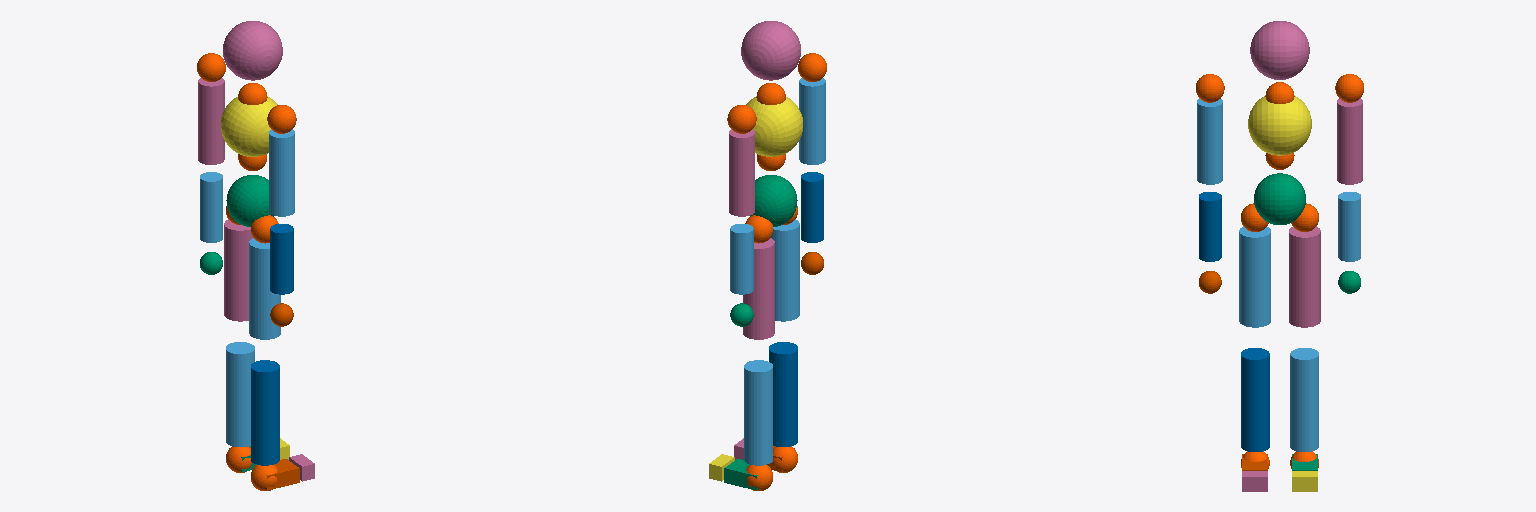
--- Render facts (derived) ---
3 views of the same robot in one strip: view 1: azimuth 30°, elevation 25°; view 2: azimuth 150°, elevation 25°; view 3: azimuth 270°, elevation 25° (orthographic).
Model W0008 with 35 links and 34 joints (28 revolute, 6 fixed), rooted at base_link, posed every joint at zero.
Visible links, largest first — view 1: right_knee, neck, left_knee, left_hip, chest, right_hip, right_shoulder, left_shoulder, root, right_elbow, left_elbow, chest_left_shoulder_link2 (+5 smaller); view 2: left_knee, neck, right_knee, right_hip, chest, left_hip, left_shoulder, right_shoulder, root, left_elbow, right_elbow, chest_right_shoulder_link2 (+5 smaller); view 3: right_hip, left_hip, right_knee, left_knee, chest, neck, right_shoulder, left_shoulder, root, right_elbow, left_elbow, chest_right_shoulder_link2 (+3 smaller).
Link boxes in pixels (x1=…): right_knee: x1=251, y1=360, x2=279, y2=465; neck: x1=223, y1=21, x2=282, y2=80; left_knee: x1=226, y1=342, x2=254, y2=446; left_hip: x1=224, y1=219, x2=252, y2=321; chest: x1=221, y1=96, x2=277, y2=156; right_hip: x1=249, y1=238, x2=280, y2=339; right_shoulder: x1=269, y1=129, x2=294, y2=216; left_shoulder: x1=198, y1=78, x2=224, y2=164; root: x1=226, y1=175, x2=273, y2=226; right_elbow: x1=270, y1=224, x2=293, y2=294; left_elbow: x1=200, y1=172, x2=222, y2=242; chest_left_shoulder_link2: x1=197, y1=53, x2=225, y2=81; left_knee: x1=744, y1=360, x2=772, y2=465; neck: x1=741, y1=21, x2=800, y2=80; right_knee: x1=769, y1=342, x2=797, y2=446; right_hip: x1=771, y1=219, x2=799, y2=321; chest: x1=746, y1=96, x2=802, y2=156; left_hip: x1=743, y1=238, x2=774, y2=339; left_shoulder: x1=729, y1=129, x2=754, y2=216; right_shoulder: x1=799, y1=78, x2=825, y2=164; root: x1=750, y1=175, x2=797, y2=226; left_elbow: x1=730, y1=224, x2=753, y2=294; right_elbow: x1=801, y1=172, x2=823, y2=242; chest_right_shoulder_link2: x1=798, y1=53, x2=826, y2=81; right_hip: x1=1239, y1=226, x2=1270, y2=327; left_hip: x1=1289, y1=226, x2=1320, y2=327; right_knee: x1=1241, y1=348, x2=1269, y2=451; left_knee: x1=1290, y1=348, x2=1318, y2=451; chest: x1=1248, y1=95, x2=1311, y2=155; neck: x1=1250, y1=21, x2=1309, y2=79; right_shoulder: x1=1197, y1=98, x2=1222, y2=184; left_shoulder: x1=1337, y1=98, x2=1362, y2=184; root: x1=1254, y1=173, x2=1305, y2=224; right_elbow: x1=1199, y1=192, x2=1221, y2=261; left_elbow: x1=1338, y1=192, x2=1360, y2=261; chest_right_shoulder_link2: x1=1196, y1=74, x2=1224, y2=102.
Size in the robot's own frame: 0.28 by 0.58 by 1.72 metres.
Geometry: primitives only (box / cylinder / sphere), no mesh files.

URDF robot description (W0008):
<?xml version="1.0" ?>
            <robot name="W0008">
            <material name="orange">
                <color rgba="1.0 0.4235294117647059 0.0392156862745098 1.0"/>
            </material>
            <link name="base_link">
                </link>
            <link name="base">
                </link>
            <joint name="j_base_base_link_rotation" type="fixed">
                <parent link="base_link"/>
                <child link="base"/>
                <origin rpy="1.5707963267948966 0 0" xyz="0 0 0"/>
            </joint>
            <link name="root">
                <inertial>
                <origin rpy="0 0 0" xyz="0.0 0.07 0.0"/>
                <mass value="6.000000"/>
                <inertia ixx="0.019440000000000002" ixy="0" ixz="0" iyy="0.019440000000000002" iyz="0" izz="0.019440000000000002"/>
                </inertial>
                <collision>
                <origin rpy="0 0 0" xyz="0.000000 0.070000 0.000000"/>
                <geometry>
                    <sphere radius="0.09"/>
                </geometry>
                </collision>
                <visual>
                <origin rpy="0 0 0" xyz="0.000000 0.070000 0.000000"/>
                <geometry>
                    <sphere radius="0.09"/>
                </geometry>
                </visual>
            </link>
            <joint name="j_root" type="fixed">
                <parent link="base"/>
                <child link="root"/>
                <origin rpy="0 0 0" xyz="0 0.000000 0.000000"/>
            </joint>
            <link name="chest">
                <inertial>
                <origin rpy="0 0 0" xyz="0.000000 0.120000 0.000000"/>
                <mass value="14.000000"/>
                <inertia ixx="0.06776000000000001" ixy="0" ixz="0" iyy="0.06776000000000001" iyz="0" izz="0.06776000000000001"/>
                </inertial>
                <collision>
                <origin rpy="0 0 0" xyz="0.000000 0.120000 0.000000"/>
                <geometry>
                    <sphere radius="0.11"/>
                </geometry>
                </collision>
                <visual>
                <origin rpy="0 0 0" xyz="0.000000 0.120000 0.000000"/>
                <geometry>
                    <sphere radius="0.11"/>
                </geometry>
                </visual>
            </link>
            <link name="root_chest_link1">
                <inertial>
                <mass value="1e-02"/>
                <inertia ixx="1e-02" ixy="0" ixz="0" iyy="1e-02" iyz="0" izz="1e-02"/>
                </inertial>
            </link>
            <joint name="j_root_chest_joint1" type="revolute">
                <origin rpy="0 0 0" xyz="0.0 0.236151 0.000000"/>
                <parent link="root"/>
                <child link="root_chest_link1"/>
                <axis xyz="1 0 0"/>
                <limit effort="200" lower="-1.2" upper="1.2" velocity="3"/>
            </joint>
            <link name="root_chest_link2">
                <inertial>
                <mass value="1e-02"/>
                <inertia ixx="1e-02" ixy="0" ixz="0" iyy="1e-02" iyz="0" izz="1e-02"/>
                </inertial>
                <visual>
                <geometry>
                    <sphere radius="0.05"/>
                </geometry>
                <material name="orange"/>
                </visual>
            </link>
            <joint name="j_root_chest_joint2" type="revolute">
                <parent link="root_chest_link1"/>
                <child link="root_chest_link2"/>
                <axis xyz="0 1 0"/>
                <limit effort="200" lower="-1.2" upper="1.2" velocity="3"/>
            </joint>
            <joint name="j_root_chest_joint3" type="revolute">
                <parent link="root_chest_link2"/>
                <child link="chest"/>
                <axis xyz="0 0 1"/>
                <limit effort="200" lower="-1.2" upper="1.2" velocity="3"/>
            </joint>
            <link name="neck">
                <inertial>
                <origin rpy="0 0 0" xyz="0.0 0.175 0.0"/>
                <mass value="2.000000"/>
                <inertia ixx="0.008405" ixy="0" ixz="0" iyy="0.008405" iyz="0" izz="0.008405"/>
                </inertial>
                <collision>
                <origin rpy="0 0 0" xyz="0.0 0.175 0.0"/>
                <geometry>
                    <sphere radius="0.1025"/>
                </geometry>
                </collision>
                <visual>
                <origin rpy="0 0 0" xyz="0.0 0.175 0.0"/>
                <geometry>
                    <sphere radius="0.1025"/>
                </geometry>
                </visual>
            </link>
            <link name="chest_neck_link1">
                <inertial>
                <mass value="1e-02"/>
                <inertia ixx="1e-02" ixy="0" ixz="0" iyy="1e-02" iyz="0" izz="1e-02"/>
                </inertial>
            </link>
            <joint name="j_chest_neck_joint1" type="revolute">
                <origin rpy="0 0 0" xyz="0.000000 0.223894 0.000000"/>
                <parent link="chest"/>
                <child link="chest_neck_link1"/>
                <axis xyz="1 0 0"/>
                <limit effort="50" lower="-1" upper="1" velocity="3"/>
            </joint>
            <link name="chest_neck_link2">
                <inertial>
                <mass value="1e-02"/>
                <inertia ixx="1e-02" ixy="0" ixz="0" iyy="1e-02" iyz="0" izz="1e-02"/>
                </inertial>
                <visual>
                <geometry>
                    <sphere radius="0.05"/>
                </geometry>
                <material name="orange"/>
                </visual>
            </link>
            <joint name="j_chest_neck_joint2" type="revolute">
                <parent link="chest_neck_link1"/>
                <child link="chest_neck_link2"/>
                <axis xyz="0 1 0"/>
                <limit effort="50" lower="-1" upper="1" velocity="3"/>
            </joint>
            <joint name="j_chest_neck_joint3" type="revolute">
                <parent link="chest_neck_link2"/>
                <child link="neck"/>
                <axis xyz="0 0 1"/>
                <limit effort="50" lower="-1" upper="1" velocity="3"/>
            </joint>
            <link name="right_hip">
                <inertial>
                <origin rpy="0 0 0" xyz="0.000000 -0.210000 0.000000"/>
                <mass value="4.500000"/>
                <inertia ixx="0.037153124999999995" ixy="0.0" ixz="0.0" iyy="0.037153124999999995" iyz="0.0" izz="0.00680625"/>
                </inertial>
                <collision>
                <origin rpy="1.5707963267948966 0 0" xyz="0.000000 -0.210000 0.000000"/>
                <geometry>
                    <cylinder length="0.22499999999999998" radius="0.0275"/>
                </geometry>
                </collision>
                <visual>
                <origin rpy="1.5707963267948966 0 0" xyz="0.000000 -0.22049999999999997 0.000000"/>
                <geometry>
                    <cylinder length="0.34099999999999997" radius="0.055"/>
                </geometry>
                </visual>
            </link>
            <link name="root_right_hip_link1">
                <inertial>
                <mass value="1e-02"/>
                <inertia ixx="1e-02" ixy="0" ixz="0" iyy="1e-02" iyz="0" izz="1e-02"/>
                </inertial>
            </link>
            <joint name="j_root_right_hip_joint1" type="revolute">
                <origin rpy="0 0 0" xyz="0.000000 0.000000 0.084887"/>
                <parent link="root"/>
                <child link="root_right_hip_link1"/>
                <axis xyz="1 0 0"/>
                <limit effort="200" lower="-1.5" upper="1.5" velocity="3"/>
            </joint>
            <link name="root_right_hip_link2">
                <inertial>
                <mass value="1e-02"/>
                <inertia ixx="1e-02" ixy="0" ixz="0" iyy="1e-02" iyz="0" izz="1e-02"/>
                </inertial>
                <visual>
                <geometry>
                    <sphere radius="0.05"/>
                </geometry>
                <material name="orange"/>
                </visual>
            </link>
            <joint name="j_root_right_hip_joint2" type="revolute">
                <parent link="root_right_hip_link1"/>
                <child link="root_right_hip_link2"/>
                <axis xyz="0 1 0"/>
                <limit effort="200" lower="-1.5" upper="1.5" velocity="3"/>
            </joint>
            <joint name="j_root_right_hip_joint3" type="revolute">
                <parent link="root_right_hip_link2"/>
                <child link="right_hip"/>
                <axis xyz="0 0 1"/>
                <limit effort="200" lower="-1.5" upper="1.5" velocity="3"/>
            </joint>
            <link name="right_knee">
                <inertial>
                <origin rpy="0 0 0" xyz="0.000000 -0.200000 0.000000"/>
                <mass value="3.000000"/>
                <inertia ixx="0.1" ixy="0" ixz="0" iyy="0.1" iyz="0" izz="0.1"/>
                </inertial>
                <collision>
                <origin rpy="1.5707963267948966 0 0" xyz="0.000000 -0.200000 0.000000"/>
                <geometry>
                    <cylinder length="0.23249999999999998" radius="0.025"/>
                </geometry>
                </collision>
                <visual>
                <origin rpy="1.5707963267948966 0 0" xyz="0.000000 -0.2 0.000000"/>
                <geometry>
                    <cylinder length="0.35000000000000003" radius="0.05"/>
                </geometry>
                </visual>
            </link>
            <joint name="j_right_knee" type="revolute">
                <parent link="right_hip"/>
                <child link="right_knee"/>
                <limit effort="150.0" lower="-3.14" upper="0." velocity="0.5"/>
                <origin rpy="0 0 0" xyz="0.000000 -0.49100000000000005 0.000000"/>
                <axis xyz="0.000000 0.000000 1.000000"/>
            </joint>
            <link name="right_ankle">
                <inertial>
                <origin rpy="0 0 0" xyz="0.045 -0.00225 0.000000"/>
                <mass value="1.000000"/>
                <inertia ixx="0.0009270833333333333" ixy="0.0" ixz="0.0" iyy="0.0028628333333333327" iyz="0.0" izz="0.003285749999999999"/>
                </inertial>
                <collision>
                <origin rpy="0 0 0" xyz="0.045 -0.00225 0.000000"/>
                <geometry>
                    <box size="0.127 0.055 0.09"/>
                </geometry>
                </collision>
                <visual>
                <origin rpy="0 0 0" xyz="0.045 -0.00225 0.000000"/>
                <geometry>
                    <box size="0.127 0.055 0.09"/>
                </geometry>
                </visual>
            </link>
            <joint name="j_right_toe" type="fixed">
                <parent link="right_ankle"/>
                <child link="right_toe"/>
                <limit effort="150.0" lower="-3.14" upper="0." velocity="0.5"/>
                <origin rpy="0 0 0" xyz="0.1 0.0 0.0"/>
                <axis xyz="0.000000 0.000000 1.000000"/>
            </joint>
            <link name="right_toe">
                <inertial>
                <origin rpy="0 0 0" xyz="0.045 0.0 0.0"/>
                <mass value="0.3"/>
                <inertia ixx="0.0009270833333333333" ixy="0.0" ixz="0.0" iyy="0.0028628333333333327" iyz="0.0" izz="0.003285749999999999"/>
                </inertial>
                <collision>
                <origin rpy="0 0 0" xyz="0.045 0.0 0.0"/>
                <geometry>
                    <box size="0.05 0.055 0.09"/>
                </geometry>
                </collision>
                <visual>
                <origin rpy="0 0 0" xyz="0.045 0.0 0.0"/>
                <geometry>
                    <box size="0.05 0.055 0.09"/>
                </geometry>
                </visual>
            </link>
            <link name="right_knee_right_ankle_link1">
                <inertial>
                <mass value="1e-02"/>
                <inertia ixx="1e-02" ixy="0" ixz="0" iyy="1e-02" iyz="0" izz="1e-02"/>
                </inertial>
            </link>
            <joint name="j_right_knee_right_ankle_joint1" type="revolute">
                <origin rpy="0 0 0" xyz="0.000000 -0.44000000000000006 0.000000"/>
                <parent link="right_knee"/>
                <child link="right_knee_right_ankle_link1"/>
                <axis xyz="1 0 0"/>
                <limit effort="90" lower="-1.2" upper="1.2" velocity="3"/>
            </joint>
            <link name="right_knee_right_ankle_link2">
                <inertial>
                <mass value="1e-02"/>
                <inertia ixx="1e-02" ixy="0" ixz="0" iyy="1e-02" iyz="0" izz="1e-02"/>
                </inertial>
                <visual>
                <geometry>
                    <sphere radius="0.05"/>
                </geometry>
                <material name="orange"/>
                </visual>
            </link>
            <joint name="j_right_knee_right_ankle_joint2" type="revolute">
                <parent link="right_knee_right_ankle_link1"/>
                <child link="right_knee_right_ankle_link2"/>
                <axis xyz="0 1 0"/>
                <limit effort="90" lower="-1.2" upper="1.2" velocity="3"/>
            </joint>
            <joint name="j_right_knee_right_ankle_joint3" type="revolute">
                <parent link="right_knee_right_ankle_link2"/>
                <child link="right_ankle"/>
                <axis xyz="0 0 1"/>
                <limit effort="90" lower="-1.2" upper="1.2" velocity="3"/>
            </joint>
            <link name="right_shoulder">
                <inertial>
                <origin rpy="0 0 0" xyz="0.000000 -0.140000 0.000000"/>
                <mass value="1.500000"/>
                <inertia ixx="0.004809374999999999" ixy="0.0" ixz="0.0" iyy="0.004809374999999999" iyz="0.0" izz="0.0015187500000000001"/>
                </inertial>
                <collision>
                <origin rpy="1.5707963267948966 0 0" xyz="0.000000 -0.140000 0.000000"/>
                <geometry>
                    <cylinder length="0.135" radius="0.0225"/>
                </geometry>
                </collision>
                <visual>
                <origin rpy="1.5707963267948966 0 0" xyz="0.000000 -0.1975 0.000000"/>
                <geometry>
                    <cylinder length="0.295" radius="0.045"/>
                </geometry>
                </visual>
            </link>
            <link name="chest_right_shoulder_link1">
                <inertial>
                <mass value="1e-02"/>
                <inertia ixx="1e-02" ixy="0" ixz="0" iyy="1e-02" iyz="0" izz="1e-02"/>
                </inertial>
            </link>
            <joint name="j_chest_right_shoulder_joint1" type="revolute">
                <origin rpy="0 0 0" xyz="-0.02406 0.24350 0.24"/>
                <parent link="chest"/>
                <child link="chest_right_shoulder_link1"/>
                <axis xyz="1 0 0"/>
                <limit effort="100" lower="-3.14" upper="3.14" velocity="3"/>
            </joint>
            <link name="chest_right_shoulder_link2">
                <inertial>
                <mass value="1e-02"/>
                <inertia ixx="1e-02" ixy="0" ixz="0" iyy="1e-02" iyz="0" izz="1e-02"/>
                </inertial>
                <visual>
                <geometry>
                    <sphere radius="0.05"/>
                </geometry>
                <material name="orange"/>
                </visual>
            </link>
            <joint name="j_chest_right_shoulder_joint2" type="revolute">
                <parent link="chest_right_shoulder_link1"/>
                <child link="chest_right_shoulder_link2"/>
                <axis xyz="0 1 0"/>
                <limit effort="100" lower="-3.14" upper="3.14" velocity="3"/>
            </joint>
            <joint name="j_chest_right_shoulder_joint3" type="revolute">
                <parent link="chest_right_shoulder_link2"/>
                <child link="right_shoulder"/>
                <axis xyz="0 0 1"/>
                <limit effort="100" lower="-3.14" upper="3.14" velocity="3"/>
            </joint>
            <link name="right_elbow">
                <inertial>
                <origin rpy="0 0 0" xyz="0.000000 -0.120000 0.000000"/>
                <mass value="1.000000"/>
                <inertia ixx="0.0019187499999999999" ixy="0.0" ixz="0.0" iyy="0.0019187499999999999" iyz="0.0" izz="0.0008"/>
                </inertial>
                <collision>
                <origin rpy="1.5707963267948966 0 0" xyz="0.0 -0.12 0.0"/>
                <geometry>
                    <cylinder length="0.10125" radius="0.02"/>
                </geometry>
                </collision>
                <visual>
                <origin rpy="1.5707963267948966 0 0" xyz="0.0 -0.12 0.0"/>
                <geometry>
                    <cylinder length="0.23" radius="0.04"/>
                </geometry>
                </visual>
            </link>
            <joint name="j_right_elbow" type="revolute">
                <parent link="right_shoulder"/>
                <child link="right_elbow"/>
                <limit effort="60.0" lower="0" upper="3.14" velocity="0.5"/>
                <origin rpy="0 0 0" xyz="0.000000 -0.405 0.000000"/>
                <axis xyz="0.000000 0.000000 1.000000"/>
            </joint>
            <link name="right_wrist">
                <inertial>
                <origin rpy="0 0 0" xyz="0.000000 0.000000 0.000000"/>
                <mass value="0.500000"/>
                <inertia ixx="0.00032" ixy="0" ixz="0" iyy="0.00032" iyz="0" izz="0.00032"/>
                </inertial>
                <collision>
                <origin rpy="0 0 0" xyz="0.000000 0.000000 0.000000"/>
                <geometry>
                    <sphere radius="0.04"/>
                </geometry>
                </collision>
                <visual>
                <origin rpy="0 0 0" xyz="0.000000 0.000000 0.000000"/>
                <geometry>
                    <sphere radius="0.04"/>
                </geometry>
                </visual>
            </link>
            <joint name="j_right_wrist" type="fixed">
                <parent link="right_elbow"/>
                <child link="right_wrist"/>
                <origin rpy="0 0 0" xyz="0.000000 -0.33 0.000000"/>
            </joint>
            <link name="left_hip">
                <inertial>
                <origin rpy="0 0 0" xyz="0.000000 -0.210000 0.000000"/>
                <mass value="4.500000"/>
                <inertia ixx="0.037153124999999995" ixy="0.0" ixz="0.0" iyy="0.037153124999999995" iyz="0.0" izz="0.00680625"/>
                </inertial>
                <collision>
                <origin rpy="1.5707963267948966 0 0" xyz="0.000000 -0.210000 0.000000"/>
                <geometry>
                    <cylinder length="0.22499999999999998" radius="0.0275"/>
                </geometry>
                </collision>
                <visual>
                <origin rpy="1.5707963267948966 0 0" xyz="0.000000 -0.22049999999999997 0.000000"/>
                <geometry>
                    <cylinder length="0.34099999999999997" radius="0.055"/>
                </geometry>
                </visual>
            </link>
            <link name="root_left_hip_link1">
                <inertial>
                <mass value="1e-02"/>
                <inertia ixx="1e-02" ixy="0" ixz="0" iyy="1e-02" iyz="0" izz="1e-02"/>
                </inertial>
            </link>
            <joint name="j_root_left_hip_joint1" type="revolute">
                <origin rpy="0 0 0" xyz="0.000000 0.000000 -0.084887"/>
                <parent link="root"/>
                <child link="root_left_hip_link1"/>
                <axis xyz="1 0 0"/>
                <limit effort="200" lower="-1.5" upper="1.5" velocity="3"/>
            </joint>
            <link name="root_left_hip_link2">
                <inertial>
                <mass value="1e-02"/>
                <inertia ixx="1e-02" ixy="0" ixz="0" iyy="1e-02" iyz="0" izz="1e-02"/>
                </inertial>
                <visual>
                <geometry>
                    <sphere radius="0.05"/>
                </geometry>
                <material name="orange"/>
                </visual>
            </link>
            <joint name="j_root_left_hip_joint2" type="revolute">
                <parent link="root_left_hip_link1"/>
                <child link="root_left_hip_link2"/>
                <axis xyz="0 1 0"/>
                <limit effort="200" lower="-1.5" upper="1.5" velocity="3"/>
            </joint>
            <joint name="j_root_left_hip_joint3" type="revolute">
                <parent link="root_left_hip_link2"/>
                <child link="left_hip"/>
                <axis xyz="0 0 1"/>
                <limit effort="200" lower="-1.5" upper="1.5" velocity="3"/>
            </joint>
            <link name="left_knee">
                <inertial>
                <origin rpy="0 0 0" xyz="0.000000 -0.200000 0.000000"/>
                <mass value="3.000000"/>
                <inertia ixx="0.025900000000000003" ixy="0.0" ixz="0.0" iyy="0.025900000000000003" iyz="0.0" izz="0.0037500000000000007"/>
                </inertial>
                <collision>
                <origin rpy="1.5707963267948966 0 0" xyz="0.000000 -0.200000 0.000000"/>
                <geometry>
                    <cylinder length="0.23249999999999998" radius="0.025"/>
                </geometry>
                </collision>
                <visual>
                <origin rpy="1.5707963267948966 0 0" xyz="0.000000 -0.2 0.000000"/>
                <geometry>
                    <cylinder length="0.35000000000000003" radius="0.05"/>
                </geometry>
                </visual>
            </link>
            <joint name="j_left_knee" type="revolute">
                <parent link="left_hip"/>
                <child link="left_knee"/>
                <limit effort="150.0" lower="-3.14" upper="0." velocity="0.5"/>
                <origin rpy="0 0 0" xyz="0.000000 -0.49100000000000005 0.000000"/>
                <axis xyz="0.000000 0.000000 1.000000"/>
            </joint>
            <link name="left_ankle">
                <inertial>
                <origin rpy="0 0 0" xyz="0.045 -0.00225 0.0"/>
                <mass value="0.7"/>
                <inertia ixx="0.0009270833333333333" ixy="0.0" ixz="0.0" iyy="0.0028628333333333327" iyz="0.0" izz="0.003285749999999999"/>
                </inertial>
                <collision>
                <origin rpy="0 0 0" xyz="0.045 -0.00225 0.0"/>
                <geometry>
                    <box size="0.127 0.055 0.09"/>
                </geometry>
                </collision>
                <visual>
                <origin rpy="0 0 0" xyz="0.045 -0.00225 0.0"/>
                <geometry>
                    <box size="0.127 0.055 0.09"/>
                </geometry>
                </visual>
            </link>
            <joint name="j_left_toe" type="fixed">
                <parent link="left_ankle"/>
                <child link="left_toe"/>
                <limit effort="150.0" lower="-3.14" upper="0." velocity="0.5"/>
                <origin rpy="0 0 0" xyz="0.1 0.0 0.0"/>
                <axis xyz="0.000000 0.000000 1.000000"/>
            </joint>
            <link name="left_toe">
                <inertial>
                <origin rpy="0 0 0" xyz="0.045 0.0 0.0"/>
                <mass value="0.3"/>
                <inertia ixx="0.0009270833333333333" ixy="0.0" ixz="0.0" iyy="0.0028628333333333327" iyz="0.0" izz="0.003285749999999999"/>
                </inertial>
                <collision>
                <origin rpy="0 0 0" xyz="0.045 0.0 0.0"/>
                <geometry>
                    <box size="0.05 0.055 0.09"/>
                </geometry>
                </collision>
                <visual>
                <origin rpy="0 0 0" xyz="0.045 0.0 0.0"/>
                <geometry>
                    <box size="0.05 0.055 0.09"/>
                </geometry>
                </visual>
            </link>
            <link name="left_knee_left_ankle_link1">
                <inertial>
                <mass value="1e-02"/>
                <inertia ixx="1e-02" ixy="0" ixz="0" iyy="1e-02" iyz="0" izz="1e-02"/>
                </inertial>
            </link>
            <joint name="j_left_knee_left_ankle_joint1" type="revolute">
                <origin rpy="0 0 0" xyz="0.000000 -0.44000000000000006 0.000000"/>
                <parent link="left_knee"/>
                <child link="left_knee_left_ankle_link1"/>
                <axis xyz="1 0 0"/>
                <limit effort="90" lower="-1.2" upper="1.2" velocity="3"/>
            </joint>
            <link name="left_knee_left_ankle_link2">
                <inertial>
                <mass value="1e-02"/>
                <inertia ixx="1e-02" ixy="0" ixz="0" iyy="1e-02" iyz="0" izz="1e-02"/>
                </inertial>
                <visual>
                <geometry>
                    <sphere radius="0.05"/>
                </geometry>
                <material name="orange"/>
                </visual>
            </link>
            <joint name="j_left_knee_left_ankle_joint2" type="revolute">
                <parent link="left_knee_left_ankle_link1"/>
                <child link="left_knee_left_ankle_link2"/>
                <axis xyz="0 1 0"/>
                <limit effort="90" lower="-1.2" upper="1.2" velocity="3"/>
            </joint>
            <joint name="j_left_knee_left_ankle_joint3" type="revolute">
                <parent link="left_knee_left_ankle_link2"/>
                <child link="left_ankle"/>
                <axis xyz="0 0 1"/>
                <limit effort="90" lower="-1.2" upper="1.2" velocity="3"/>
            </joint>
            <link name="left_shoulder">
                <inertial>
                <origin rpy="0 0 0" xyz="0.000000 -0.140000 0.000000"/>
                <mass value="1.500000"/>
                <inertia ixx="0.004809374999999999" ixy="0.0" ixz="0.0" iyy="0.004809374999999999" iyz="0.0" izz="0.0015187500000000001"/>
                </inertial>
                <collision>
                <origin rpy="1.5707963267948966 0 0" xyz="0.000000 -0.140000 0.000000"/>
                <geometry>
                    <cylinder length="0.135" radius="0.0225"/>
                </geometry>
                </collision>
                <visual>
                <origin rpy="1.5707963267948966 0 0" xyz="0.000000 -0.1975 0.000000"/>
                <geometry>
                    <cylinder length="0.295" radius="0.045"/>
                </geometry>
                </visual>
            </link>
            <link name="chest_left_shoulder_link1">
                <inertial>
                <mass value="1e-02"/>
                <inertia ixx="1e-02" ixy="0" ixz="0" iyy="1e-02" iyz="0" izz="1e-02"/>
                </inertial>
            </link>
            <joint name="j_chest_left_shoulder_joint1" type="revolute">
                <origin rpy="0 0 0" xyz="-0.02405 0.24350 -0.24"/>
                <parent link="chest"/>
                <child link="chest_left_shoulder_link1"/>
                <axis xyz="1 0 0"/>
                <limit effort="100" lower="-3.14" upper="3.14" velocity="3"/>
            </joint>
            <link name="chest_left_shoulder_link2">
                <inertial>
                <mass value="1e-02"/>
                <inertia ixx="1e-02" ixy="0" ixz="0" iyy="1e-02" iyz="0" izz="1e-02"/>
                </inertial>
                <visual>
                <geometry>
                    <sphere radius="0.05"/>
                </geometry>
                <material name="orange"/>
                </visual>
            </link>
            <joint name="j_chest_left_shoulder_joint2" type="revolute">
                <parent link="chest_left_shoulder_link1"/>
                <child link="chest_left_shoulder_link2"/>
                <axis xyz="0 1 0"/>
                <limit effort="100" lower="-3.14" upper="3.14" velocity="3"/>
            </joint>
            <joint name="j_chest_left_shoulder_joint3" type="revolute">
                <parent link="chest_left_shoulder_link2"/>
                <child link="left_shoulder"/>
                <axis xyz="0 0 1"/>
                <limit effort="100" lower="-3.14" upper="3.14" velocity="3"/>
            </joint>
            <link name="left_elbow">
                <inertial>
                <origin rpy="0 0 0" xyz="0.000000 -0.12 0.000000"/>
                <mass value="1.000000"/>
                <inertia ixx="0.0019187499999999999" ixy="0.0" ixz="0.0" iyy="0.0019187499999999999" iyz="0.0" izz="0.0008"/>
                </inertial>
                <collision>
                <origin rpy="1.5707963267948966 0 0" xyz="0.000000 -0.12 0.000000"/>
                <geometry>
                    <cylinder length="0.10125" radius="0.02"/>
                </geometry>
                </collision>
                <visual>
                <origin rpy="1.5707963267948966 0 0" xyz="0.000000 -0.12 0.000000"/>
                <geometry>
                    <cylinder length="0.23" radius="0.04"/>
                </geometry>
                </visual>
            </link>
            <joint name="j_left_elbow" type="revolute">
                <parent link="left_shoulder"/>
                <child link="left_elbow"/>
                <limit effort="60.0" lower="0" upper="3.14" velocity="0.5"/>
                <origin rpy="0 0 0" xyz="0.000000 -0.405 0.000000"/>
                <axis xyz="0.000000 0.000000 1.000000"/>
            </joint>
            <link name="left_wrist">
                <inertial>
                <origin rpy="0 0 0" xyz="0.000000 0.000000 0.000000"/>
                <mass value="0.500000"/>
                <inertia ixx="0.00032" ixy="0" ixz="0" iyy="0.00032" iyz="0" izz="0.00032"/>
                </inertial>
                <collision>
                <origin rpy="0 0 0" xyz="0.000000 0.000000 0.000000"/>
                <geometry>
                    <sphere radius="0.04"/>
                </geometry>
                </collision>
                <visual>
                <origin rpy="0 0 0" xyz="0.000000 0.000000 0.000000"/>
                <geometry>
                    <sphere radius="0.04"/>
                </geometry>
                </visual>
            </link>
            <joint name="j_left_wrist_joint" type="fixed">
                <parent link="left_elbow"/>
                <child link="left_wrist"/>
                <origin rpy="0 0 0" xyz="0.000000 -0.33 0.000000"/>
            </joint>
            </robot>
            
